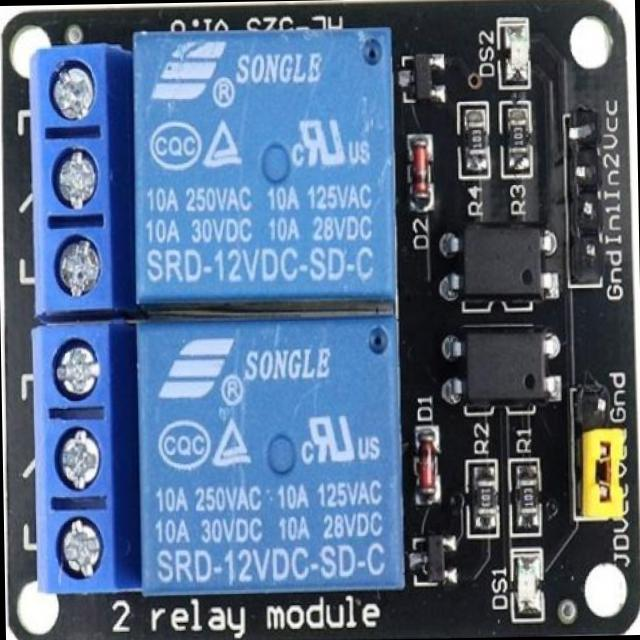IC: (454, 214, 554, 308), (460, 328, 552, 404)
LED: (496, 16, 530, 90), (512, 552, 544, 622)
connector: (24, 46, 134, 316), (32, 320, 138, 600), (563, 112, 614, 278), (576, 380, 625, 518)
diode: (413, 428, 441, 500), (411, 135, 434, 209)
resistor: (474, 458, 504, 524), (514, 466, 540, 524), (465, 105, 488, 165), (509, 106, 530, 162)
transistor: (414, 534, 455, 588), (406, 57, 448, 106)
